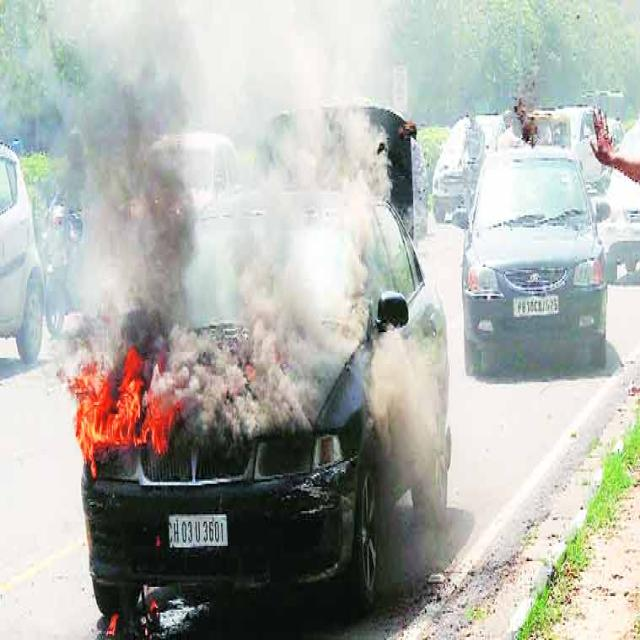accident: (70, 193, 450, 617)
car: (462, 146, 609, 374)
